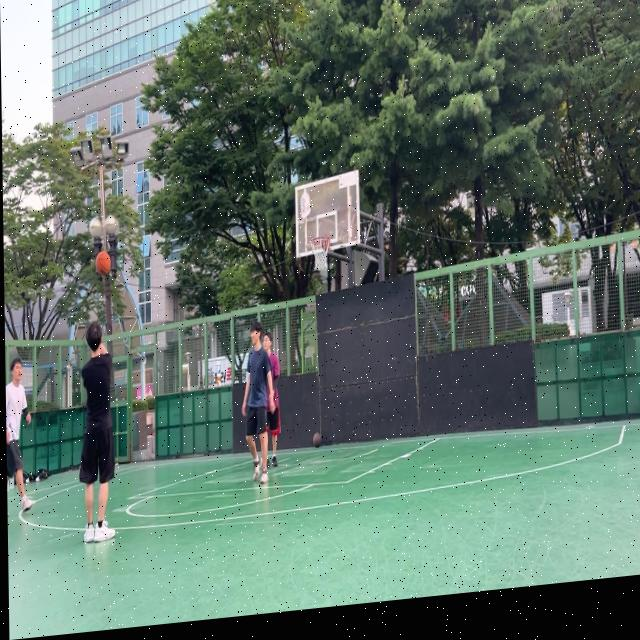basketball: (95, 249, 111, 277), (313, 431, 322, 449)
hoop: (310, 235, 332, 272)
